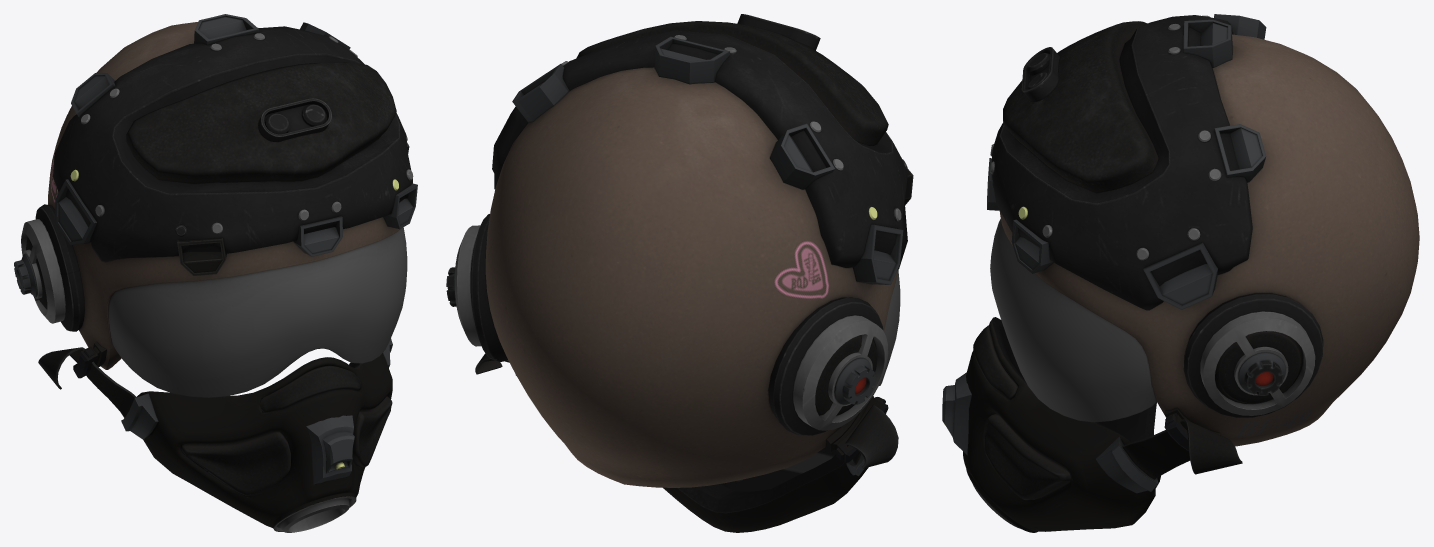
The model's file is helmet.glb.
3 views of the same model, side by side, from view 1: azimuth 30°, elevation 25°; view 2: azimuth 150°, elevation 25°; view 3: azimuth 270°, elevation 25° (orthographic). The views are drawn at different scales.
Visible parts, largest first — view 1: Object_2; view 2: Object_2; view 3: Object_2.
Boxes of the visible parts, bbox=[...] form: Object_2: bbox=[14, 14, 417, 532]; Object_2: bbox=[446, 14, 913, 532]; Object_2: bbox=[942, 14, 1419, 532].
Size of the model in its own units: 4.77 by 5.63 by 4.93.
1 material, 1 textured.
